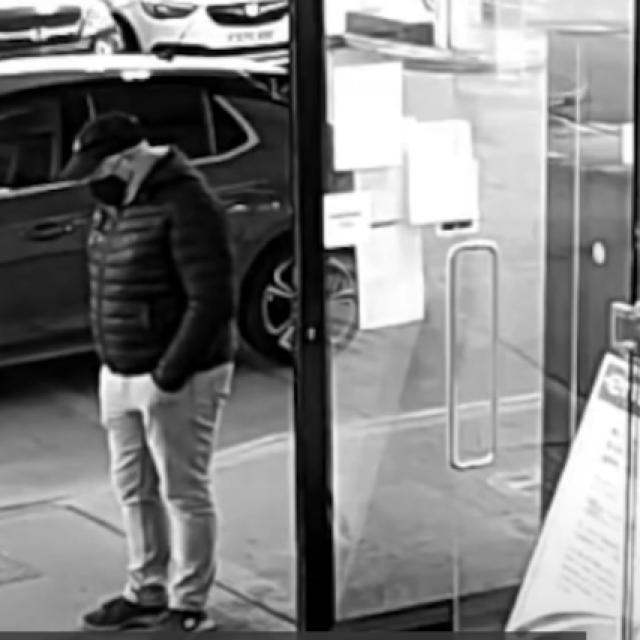Invader: (54, 110, 238, 632)
